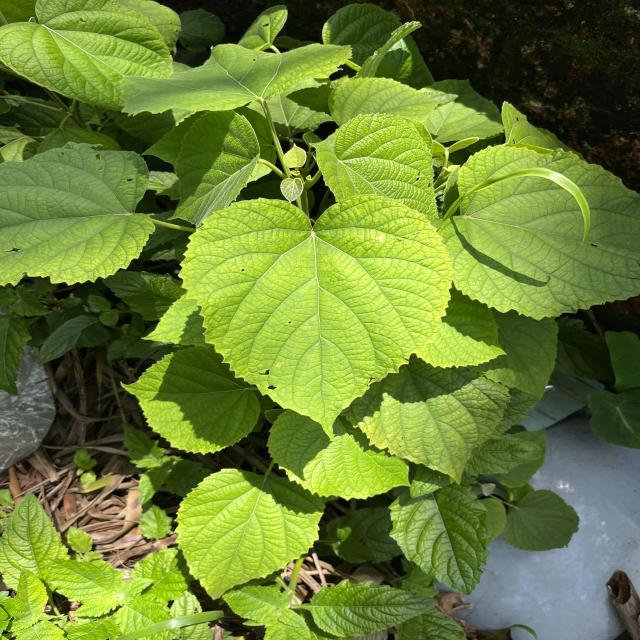Clerodendrum infortunatum: (176, 193, 457, 443), (442, 142, 640, 323), (0, 140, 157, 287), (0, 0, 176, 118), (175, 467, 328, 602), (342, 380, 513, 488), (117, 344, 263, 458), (307, 112, 446, 222), (266, 410, 418, 502), (166, 110, 262, 229)
